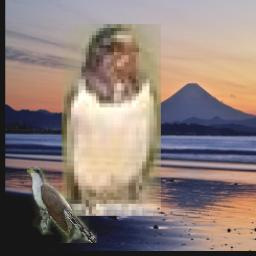Cuckoo: (26, 167, 96, 243)
Swallow: (61, 25, 160, 217)
